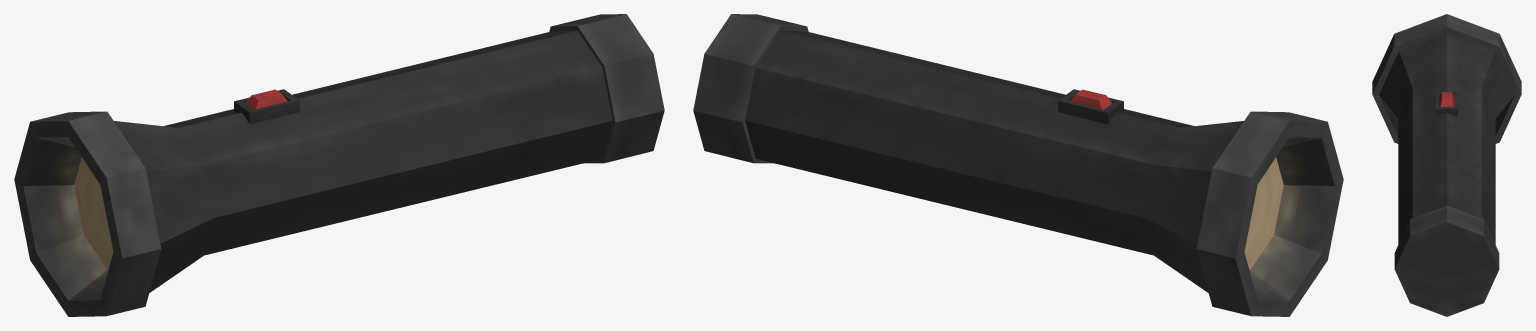
File: Flashlight.fbx
3 views of the same model, side by side, from view 1: azimuth 30°, elevation 25°; view 2: azimuth 150°, elevation 25°; view 3: azimuth 270°, elevation 25° (orthographic). The views are drawn at different scales.
Parts seen in each view (by area): view 1: flashlight; view 2: flashlight; view 3: flashlight.
Part boxes in pixels (<box>): flashlight: <box>14,14,664,316</box>; flashlight: <box>693,14,1343,316</box>; flashlight: <box>1372,14,1521,316</box>.
Size of the model in its own units: 912 by 306 by 306.
Materials: 1 (1 with a texture image).
